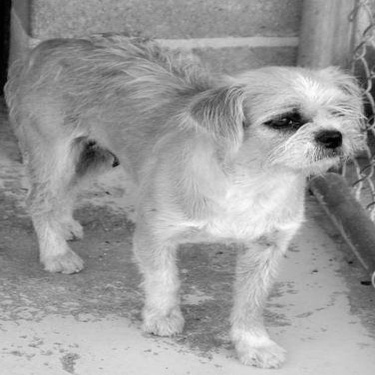dog: (1, 11, 367, 368)
